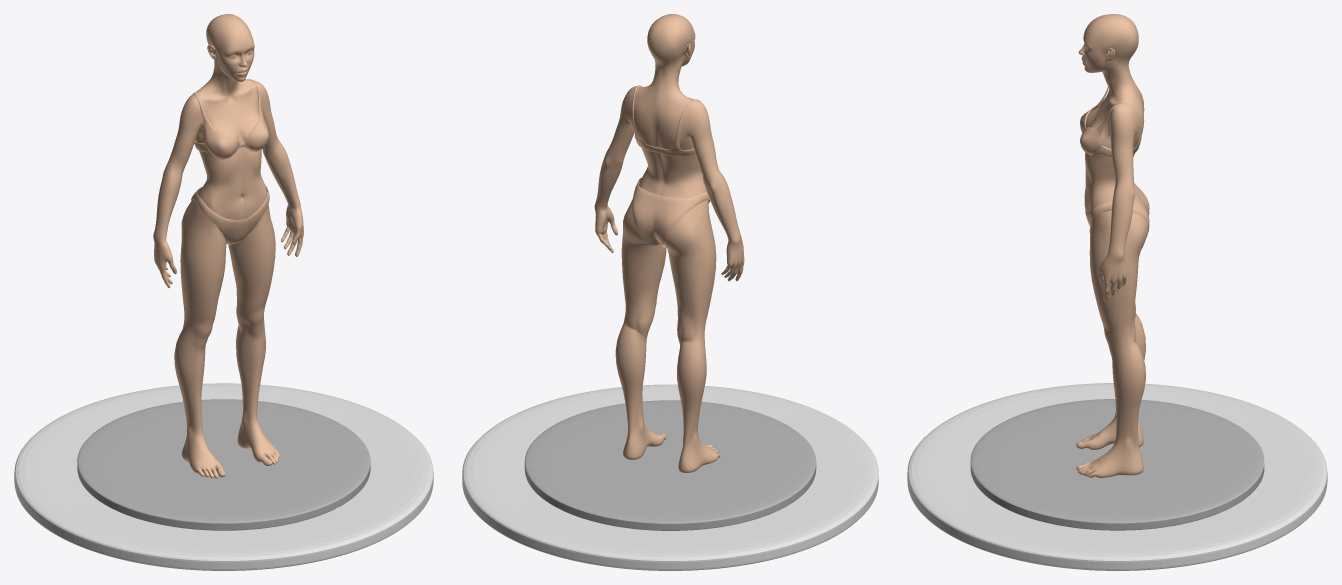
Rendered from asset.glb.
3 renders of one model, left to right at view 1: azimuth 30°, elevation 25°; view 2: azimuth 150°, elevation 25°; view 3: azimuth 270°, elevation 25°, orthographic.
Parts seen in each view (by area): view 1: FreeF&M_FreeF&MSTL, Cylinder.001, Cylinder; view 2: FreeF&M_FreeF&MSTL, Cylinder.001, Cylinder; view 3: Cylinder.001, Cylinder, FreeF&M_FreeF&MSTL.
Part boxes in pixels (x1,y1,x2,y2): FreeF&M_FreeF&MSTL: [153, 14, 303, 478]; Cylinder.001: [14, 383, 433, 570]; Cylinder: [77, 399, 370, 530]; FreeF&M_FreeF&MSTL: [594, 14, 744, 472]; Cylinder.001: [462, 384, 878, 570]; Cylinder: [524, 400, 816, 530]; Cylinder.001: [907, 383, 1327, 570]; Cylinder: [970, 399, 1264, 530]; FreeF&M_FreeF&MSTL: [1076, 14, 1149, 477].
Bounding box in the file's own units: 1.42 × 1.76 × 1.42.
